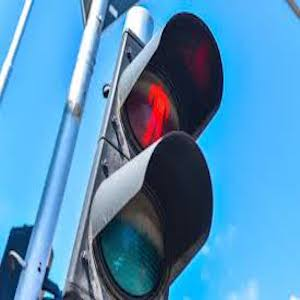red: (145, 82, 171, 145)
